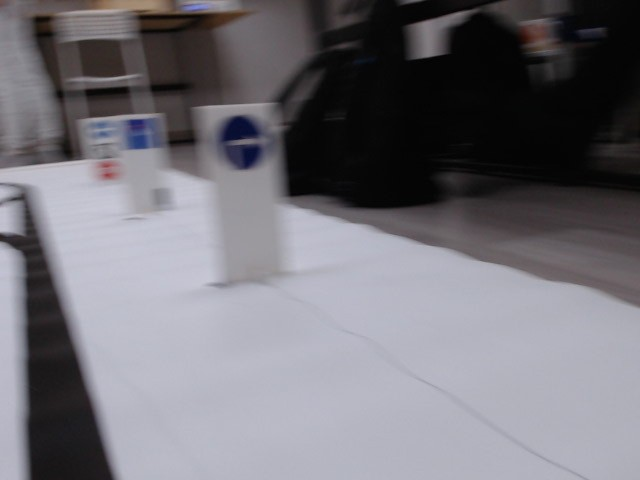Right: (215, 115, 265, 170)
